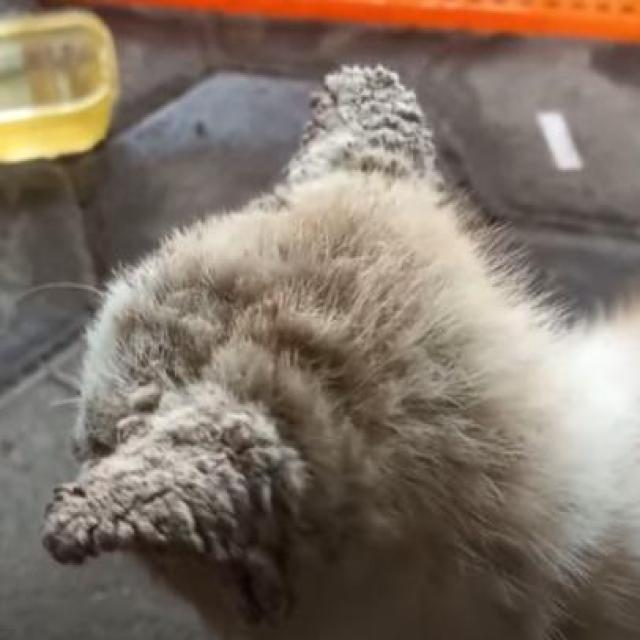ghe: (36, 409, 315, 566), (301, 56, 441, 184)
